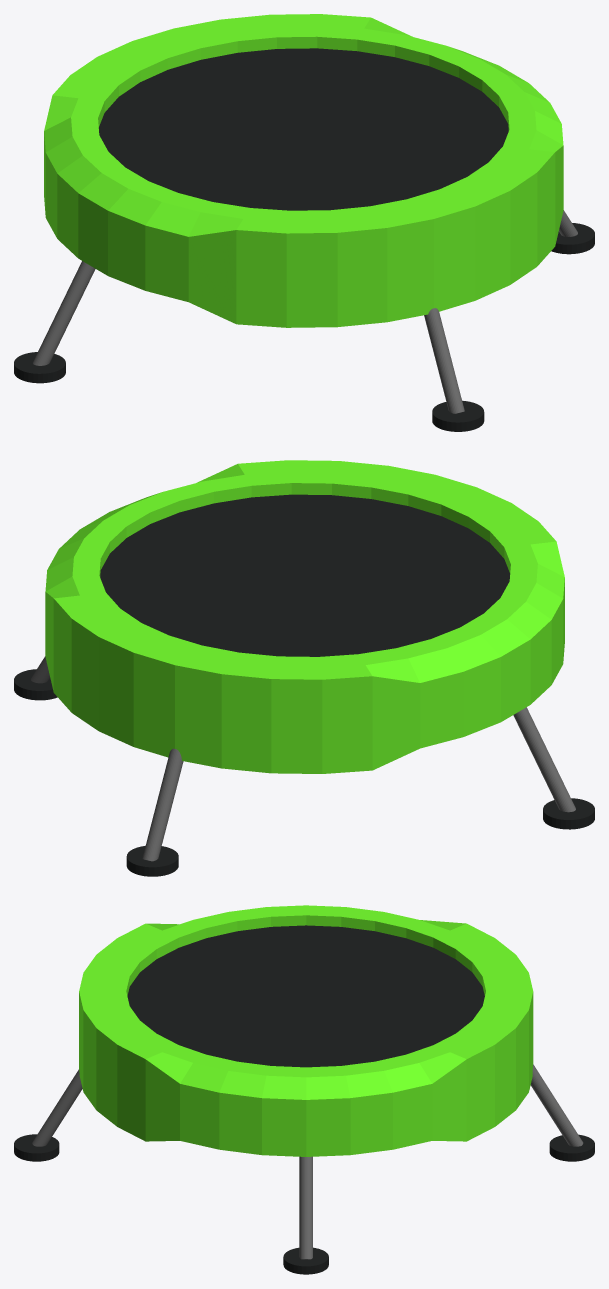
File: Landing Pad.fbx
The picture shows the model from 3 angles, top to bottom: view 1: azimuth 30°, elevation 25°; view 2: azimuth 150°, elevation 25°; view 3: azimuth 270°, elevation 25°; orthographic projection. The views are drawn at different scales.
Visible parts, largest first — view 1: Cylinder, Cylinder.001, Lander Leg, Lander Leg 2, Cylinder.007, Cylinder.009, Cylinder.008; view 2: Cylinder, Cylinder.001, Lander Leg, Lander Leg 1, Cylinder.009, Cylinder.006, Cylinder.008; view 3: Cylinder, Cylinder.001, Lander Leg 3, Lander Leg 1, Lander Leg 2, Cylinder.008, Cylinder.007, Cylinder.006.
Part boxes in pixels (left/top/right/bottom): Cylinder: left=44, top=14, right=563, bottom=327; Cylinder.001: left=98, top=48, right=508, bottom=210; Lander Leg: left=32, top=261, right=95, bottom=365; Lander Leg 2: left=424, top=308, right=464, bottom=413; Cylinder.007: left=432, top=400, right=484, bottom=431; Cylinder.009: left=14, top=352, right=65, bottom=383; Cylinder.008: left=551, top=223, right=594, bottom=254; Cylinder: left=45, top=460, right=564, bottom=773; Cylinder.001: left=100, top=494, right=510, bottom=656; Lander Leg: left=513, top=707, right=575, bottom=812; Lander Leg 1: left=142, top=748, right=183, bottom=861; Cylinder.009: left=543, top=798, right=594, bottom=829; Cylinder.006: left=126, top=846, right=178, bottom=876; Cylinder.008: left=14, top=669, right=57, bottom=700; Cylinder: left=79, top=905, right=533, bottom=1156; Cylinder.001: left=127, top=925, right=484, bottom=1067; Lander Leg 3: left=299, top=1156, right=312, bottom=1259; Lander Leg 1: left=530, top=1064, right=583, bottom=1146; Lander Leg 2: left=32, top=1069, right=82, bottom=1146; Cylinder.008: left=283, top=1247, right=328, bottom=1274; Cylinder.007: left=14, top=1134, right=59, bottom=1161; Cylinder.006: left=549, top=1134, right=594, bottom=1161.
Bounding box in the file's own units: 255 × 78.08 × 256.
